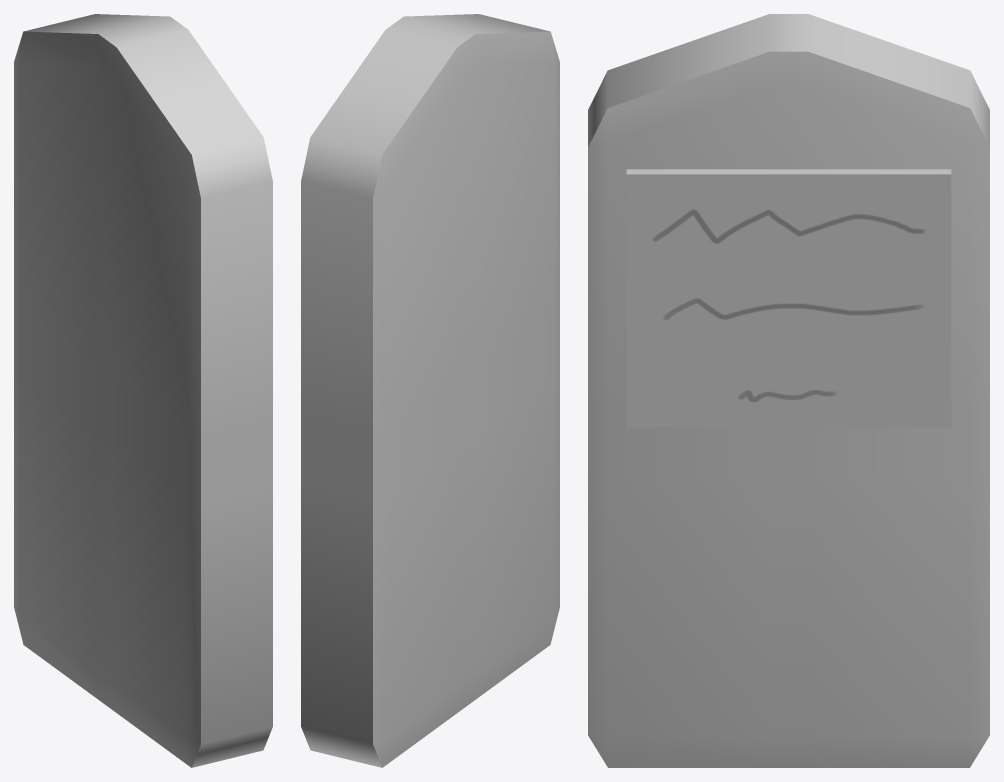
File: tombstone.glb
The picture shows the model from 3 angles, left to right: view 1: azimuth 30°, elevation 25°; view 2: azimuth 150°, elevation 25°; view 3: azimuth 270°, elevation 25°; orthographic projection. The views are drawn at different scales.
Visible parts, largest first — view 1: Cube.007; view 2: Cube.007; view 3: Cube.007.
Part boxes in pixels (<box>): Cube.007: <box>14,14,272,767</box>; Cube.007: <box>301,14,559,767</box>; Cube.007: <box>588,14,989,767</box>.
Size of the model in its own units: 0.5518 by 3.93 by 2.
Materials: 1 (1 with a texture image).
